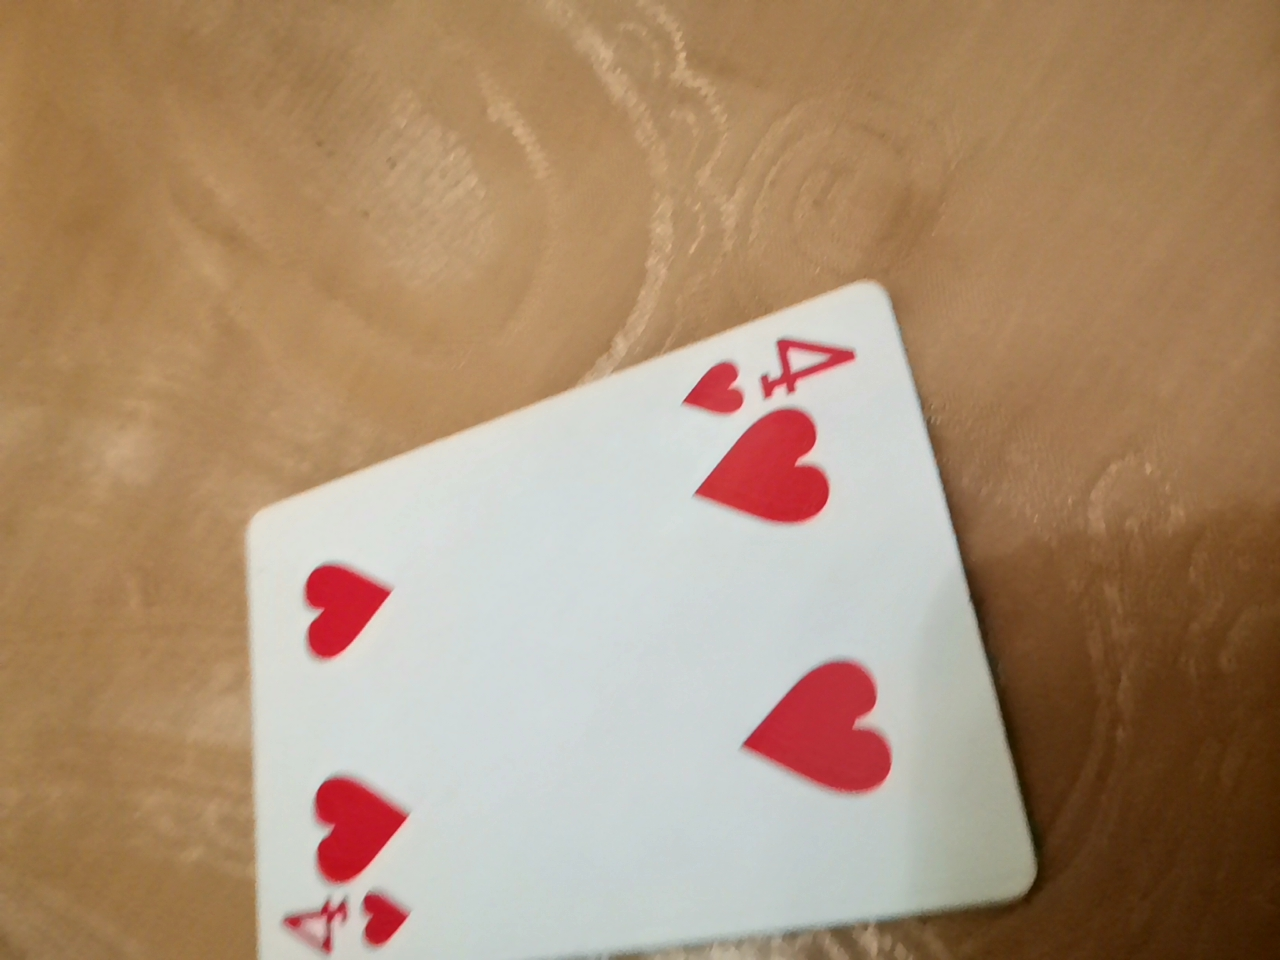hx 4: (245, 232, 1017, 945)
